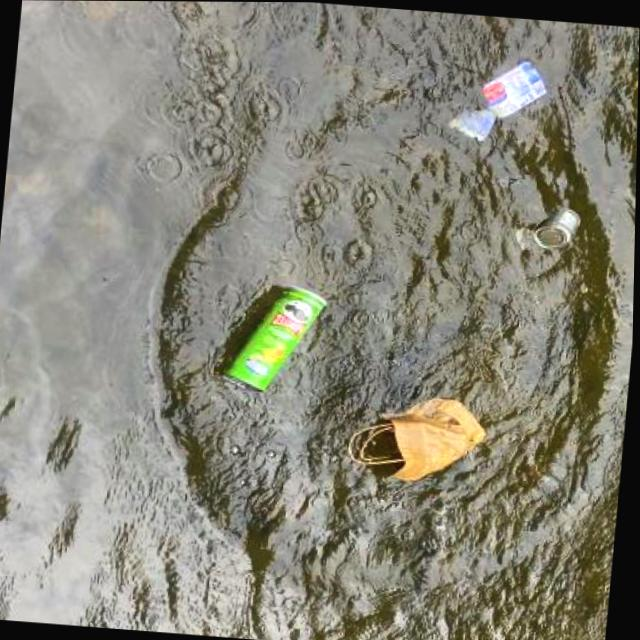Can-Metal: (213, 276, 338, 399), (526, 196, 587, 256)
Paper: (337, 386, 499, 492)
Plastic: (439, 50, 555, 150)
